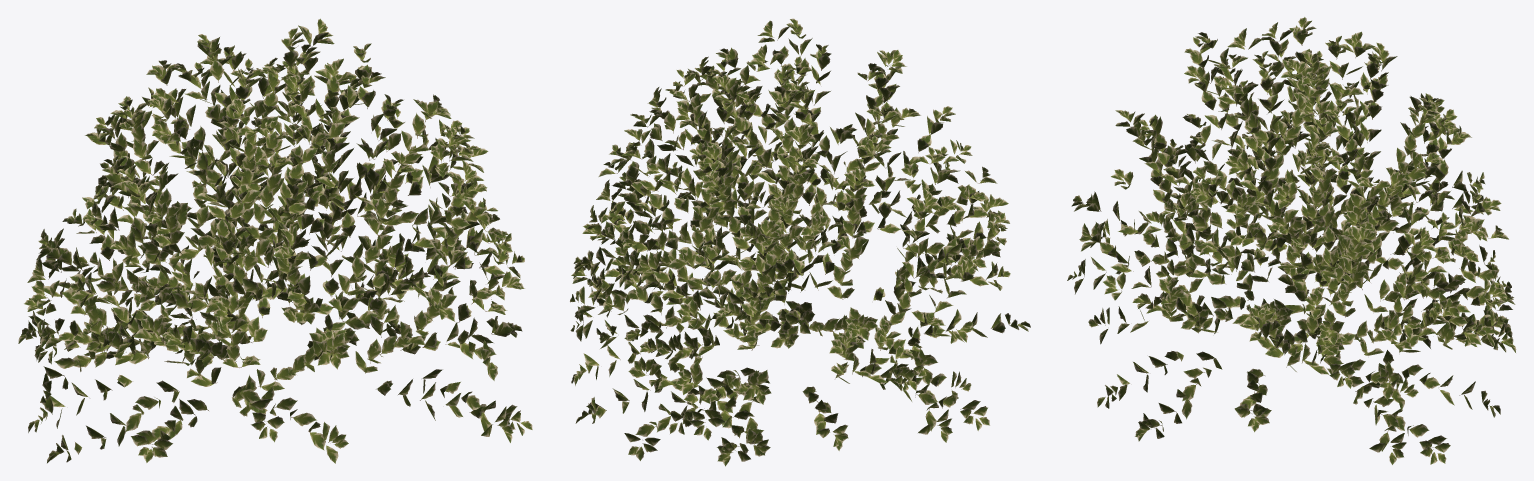
Rendered from MESH_LS10_M_Euonymus_LOD2.fbx.
The picture shows the model from 3 angles, left to right: view 1: azimuth 30°, elevation 25°; view 2: azimuth 150°, elevation 25°; view 3: azimuth 270°, elevation 25°; orthographic projection. The views are drawn at different scales.
Parts seen in each view (by area): view 1: MI_LOD2_001; view 2: MI_LOD2_001; view 3: MI_LOD2_001.
Part boxes in pixels (x1,y1,x2,y2): MI_LOD2_001: (18, 18, 532, 463); MI_LOD2_001: (570, 18, 1030, 466); MI_LOD2_001: (1067, 17, 1516, 464).
Size of what is drawn, in the model's own units: 198 by 168 by 193.
